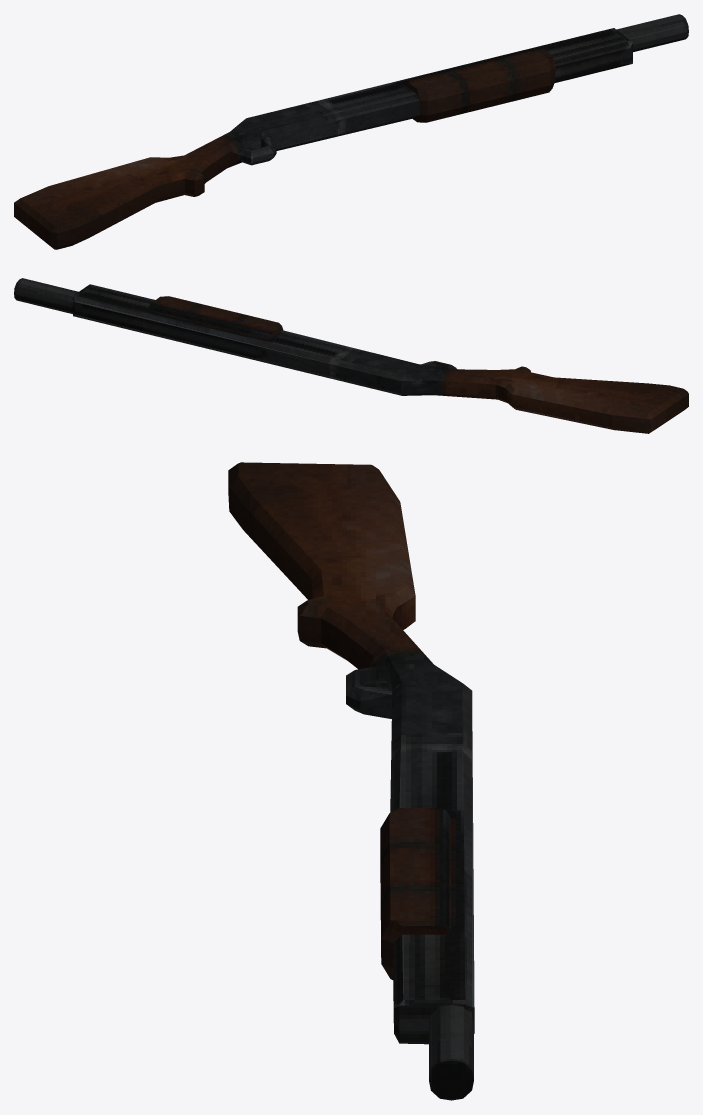
File: shotgun_1.glb
3 renders of one model, top to bottom at view 1: azimuth 30°, elevation 25°; view 2: azimuth 150°, elevation 25°; view 3: azimuth 270°, elevation 25°, orthographic. The views are drawn at different scales.
Visible parts, largest first — view 1: shotgun_1; view 2: shotgun_1; view 3: shotgun_1.
Part boxes in pixels (box(x1,y1,x2,y2)): shotgun_1: box(14, 14, 688, 249); shotgun_1: box(14, 278, 688, 433); shotgun_1: box(228, 462, 474, 1100).
Bounding box in the file's own units: 1.44 × 0.0655 × 0.2485.
Materials: 1 (1 with a texture image).
